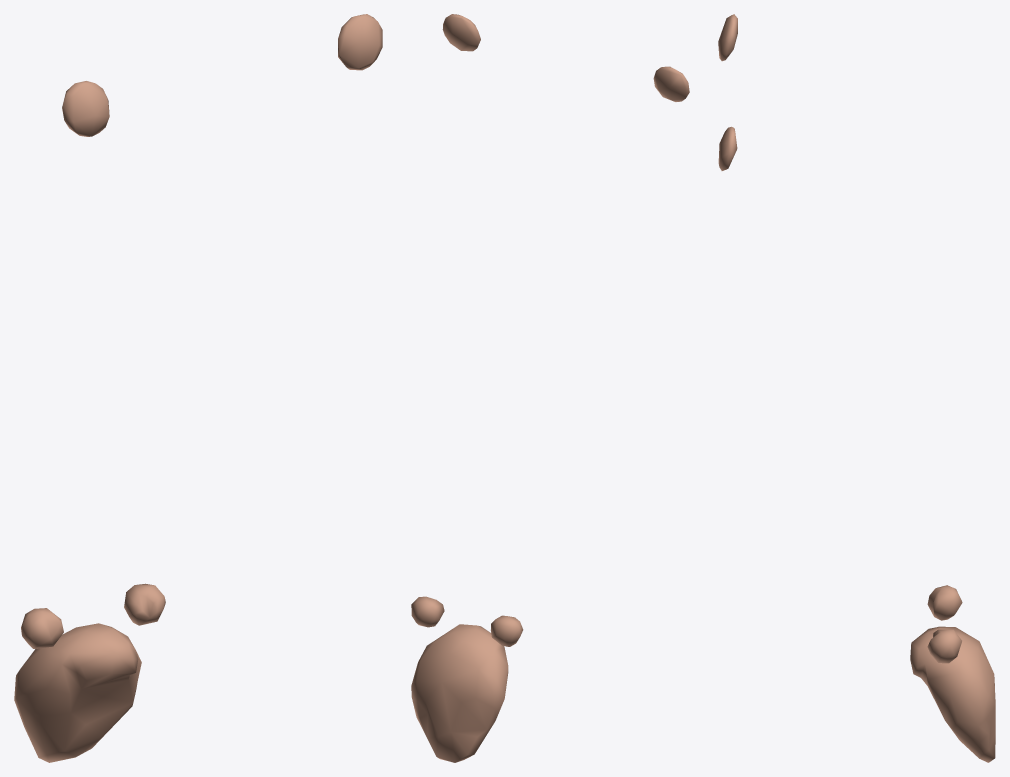
Rendered from pediatric_neonate_female.reproductive.LOD3.glb.
3 views of the same model, side by side, from view 1: azimuth 30°, elevation 25°; view 2: azimuth 150°, elevation 25°; view 3: azimuth 270°, elevation 25° (orthographic). The views are drawn at different scales.
Parts seen in each view (by area): view 1: PEDIATRIC.NEONATE.FEMALE.REPRODUCTIVE.UTERUS, PEDIATRIC.NEONATE.FEMALE.REPRODUCTIVE.BREAST_ADIPOSE_TISSUE. (×2), PEDIATRIC.NEONATE.FEMALE.REPRODUCTIVE.OVARY.R, PEDIATRIC.NEONATE.FEMALE.REPRODUCTIVE.OVARY.L; view 2: PEDIATRIC.NEONATE.FEMALE.REPRODUCTIVE.UTERUS, PEDIATRIC.NEONATE.FEMALE.REPRODUCTIVE.BREAST_ADIPOSE_TISSUE. (×2), PEDIATRIC.NEONATE.FEMALE.REPRODUCTIVE.OVARY.L, PEDIATRIC.NEONATE.FEMALE.REPRODUCTIVE.OVARY.R; view 3: PEDIATRIC.NEONATE.FEMALE.REPRODUCTIVE.UTERUS, PEDIATRIC.NEONATE.FEMALE.REPRODUCTIVE.BREAST_ADIPOSE_TISSUE. (×2), PEDIATRIC.NEONATE.FEMALE.REPRODUCTIVE.OVARY.R, PEDIATRIC.NEONATE.FEMALE.REPRODUCTIVE.OVARY.L.
Part boxes in pixels (x1,y1,x2,y2): PEDIATRIC.NEONATE.FEMALE.REPRODUCTIVE.UTERUS: (14,623,141,762); PEDIATRIC.NEONATE.FEMALE.REPRODUCTIVE.BREAST_ADIPOSE_TISSUE. (×2): (62,14,382,136); PEDIATRIC.NEONATE.FEMALE.REPRODUCTIVE.OVARY.R: (21,608,63,648); PEDIATRIC.NEONATE.FEMALE.REPRODUCTIVE.OVARY.L: (124,583,165,625); PEDIATRIC.NEONATE.FEMALE.REPRODUCTIVE.UTERUS: (411,624,508,762); PEDIATRIC.NEONATE.FEMALE.REPRODUCTIVE.BREAST_ADIPOSE_TISSUE. (×2): (442,14,689,101); PEDIATRIC.NEONATE.FEMALE.REPRODUCTIVE.OVARY.L: (411,596,444,627); PEDIATRIC.NEONATE.FEMALE.REPRODUCTIVE.OVARY.R: (490,615,523,646); PEDIATRIC.NEONATE.FEMALE.REPRODUCTIVE.UTERUS: (910,626,995,762); PEDIATRIC.NEONATE.FEMALE.REPRODUCTIVE.BREAST_ADIPOSE_TISSUE. (×2): (718,14,737,170); PEDIATRIC.NEONATE.FEMALE.REPRODUCTIVE.OVARY.R: (927,585,962,620); PEDIATRIC.NEONATE.FEMALE.REPRODUCTIVE.OVARY.L: (927,629,961,663).
Bounding box in the file's own units: 0.0621 × 0.1528 × 0.056.
